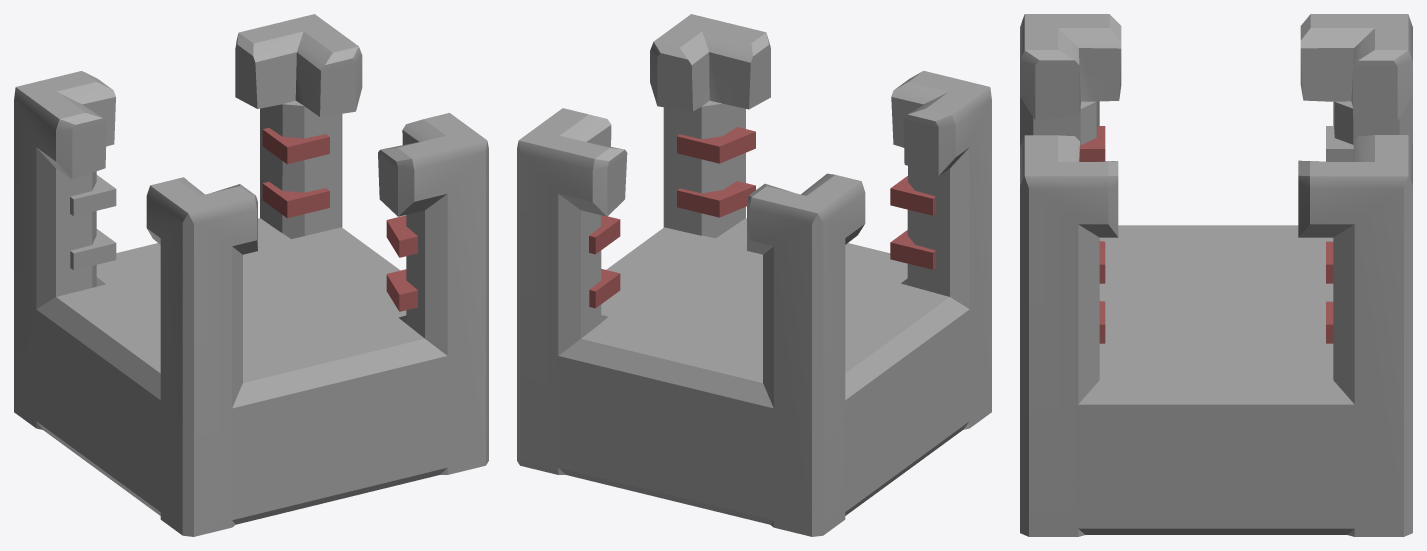
The model's file is SM_Lift_Base.fbx.
The picture shows the model from 3 angles, left to right: view 1: azimuth 30°, elevation 25°; view 2: azimuth 150°, elevation 25°; view 3: azimuth 270°, elevation 25°; orthographic projection. The views are drawn at different scales.
Visible parts, largest first — view 1: Lift_Base; view 2: Lift_Base; view 3: Lift_Base.
Part boxes in pixels (box(x1,y1,x2,y2)): Lift_Base: box(14, 14, 488, 536); Lift_Base: box(517, 14, 991, 536); Lift_Base: box(1020, 14, 1412, 536).
Bounding box in the file's own units: 100 × 101 × 100.
